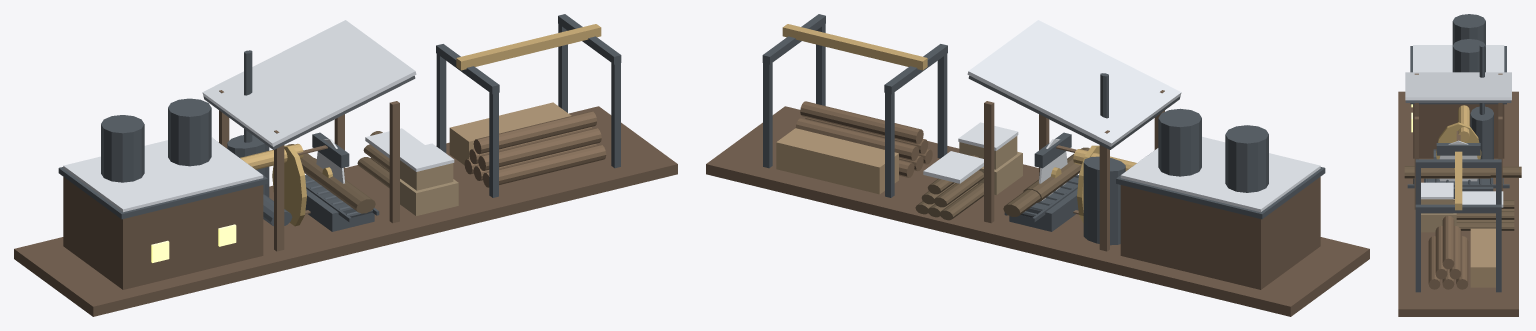
The model's file is sawmill.glb.
3 views of the same model, side by side, from view 1: azimuth 30°, elevation 25°; view 2: azimuth 150°, elevation 25°; view 3: azimuth 270°, elevation 25° (orthographic). The views are drawn at different scales.
Visible parts, largest first — view 1: sawmill_Building; view 2: sawmill_Building; view 3: sawmill_Building.
Part boxes in pixels (left/top/right/bottom): sawmill_Building: left=14, top=14, right=677, bottom=316; sawmill_Building: left=706, top=14, right=1369, bottom=316; sawmill_Building: left=1398, top=14, right=1521, bottom=316.
Bounding box in the file's own units: 19.2 × 5.44 × 4.6.
